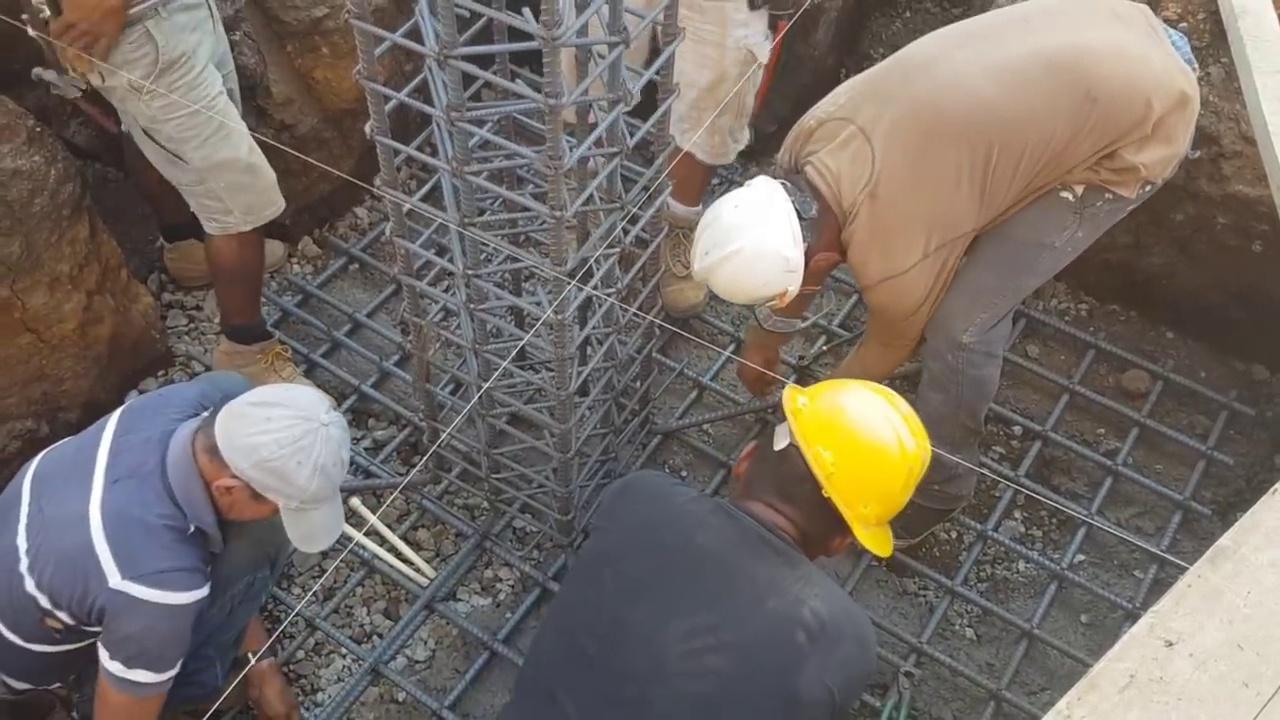helmet: (778, 374, 930, 553), (695, 173, 808, 317)
helmet-off: (190, 377, 346, 563)
helmet-on: (716, 363, 937, 570), (694, 161, 858, 316)
person: (694, 2, 1207, 545), (510, 370, 936, 716), (2, 361, 358, 720), (8, 0, 321, 369), (543, 3, 780, 328), (362, 30, 454, 236)
